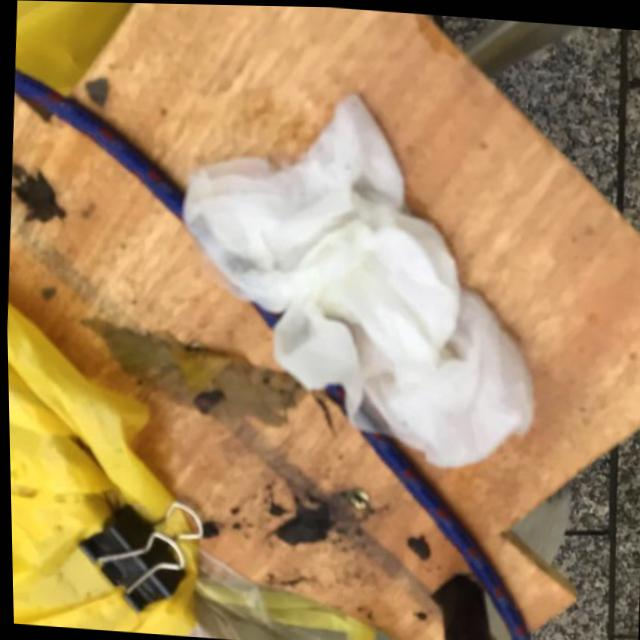Paper: (164, 75, 547, 475)
